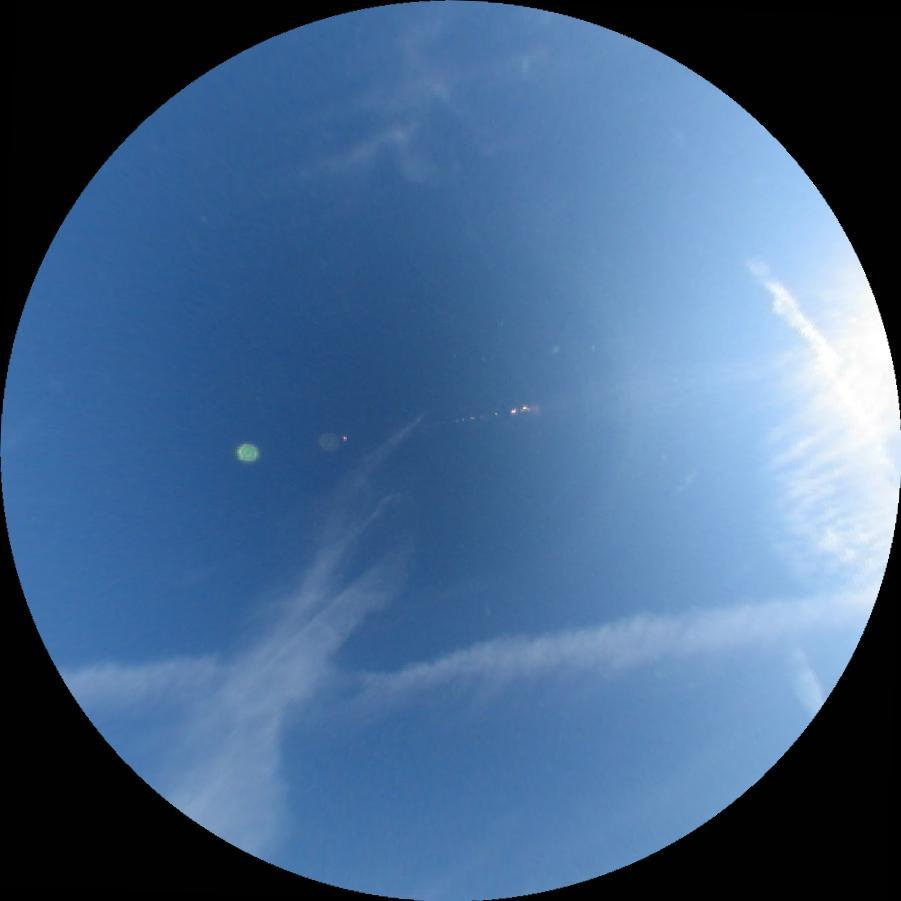contrail old: (738, 246, 901, 480), (775, 630, 830, 719)
contrail veryold: (61, 586, 883, 753), (763, 252, 901, 592)
